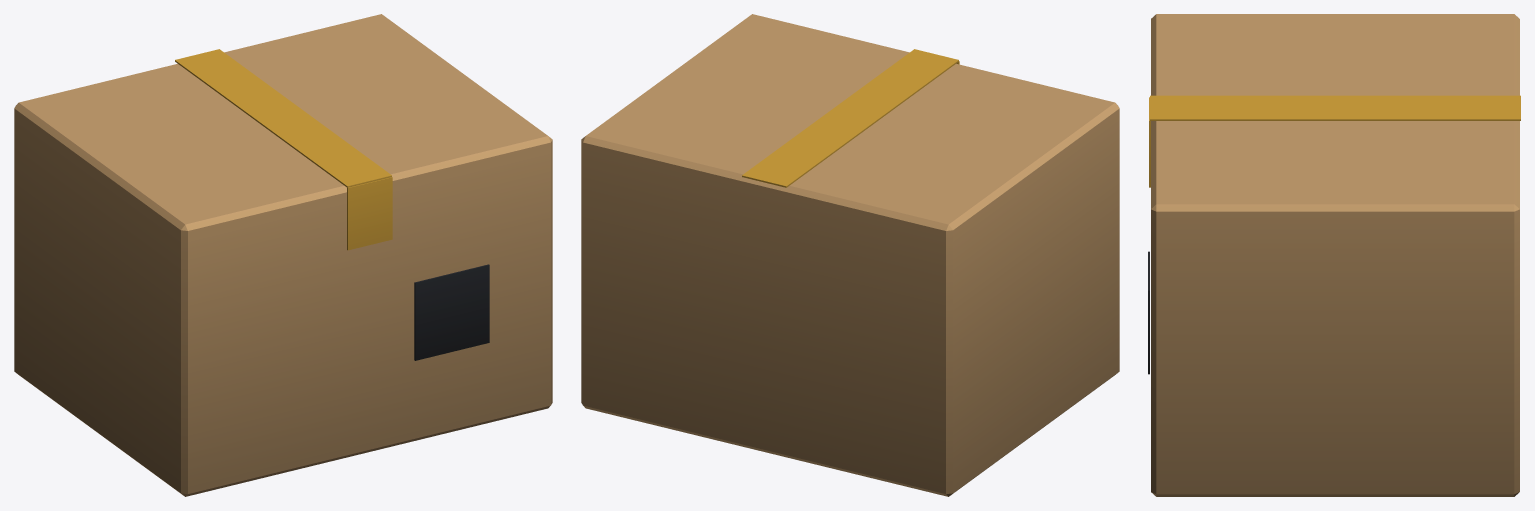
The model's file is cardboard_box_01.glb.
The picture shows the model from 3 angles, left to right: view 1: azimuth 30°, elevation 25°; view 2: azimuth 150°, elevation 25°; view 3: azimuth 270°, elevation 25°; orthographic projection. The views are drawn at different scales.
Parts seen in each view (by area): view 1: cardboard_box_01_LOD0; view 2: cardboard_box_01_LOD0; view 3: cardboard_box_01_LOD0.
Boxes of the visible parts, x1,y1,x2,y2 form: cardboard_box_01_LOD0: (14,14,552,496); cardboard_box_01_LOD0: (581,14,1119,496); cardboard_box_01_LOD0: (1148,14,1520,496).
Size of what is drawn, in the model's own units: 0.5 by 0.352 by 0.404.
1 material, 1 textured.
